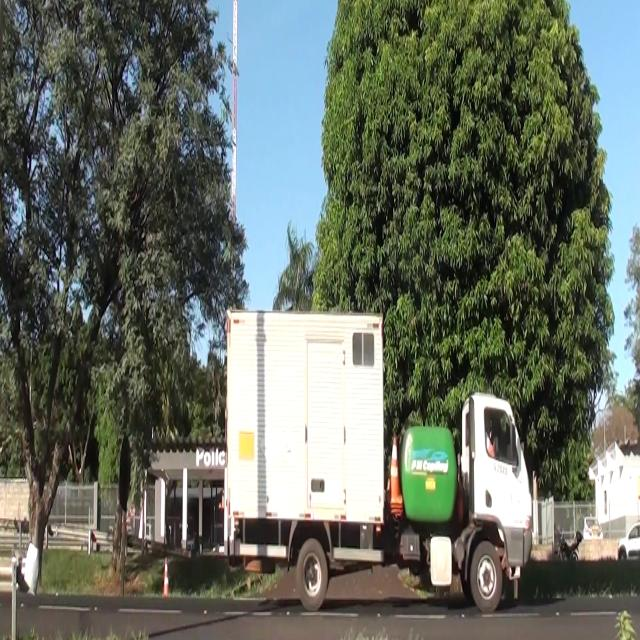-axle: (470, 537, 504, 611), (297, 540, 330, 613)
